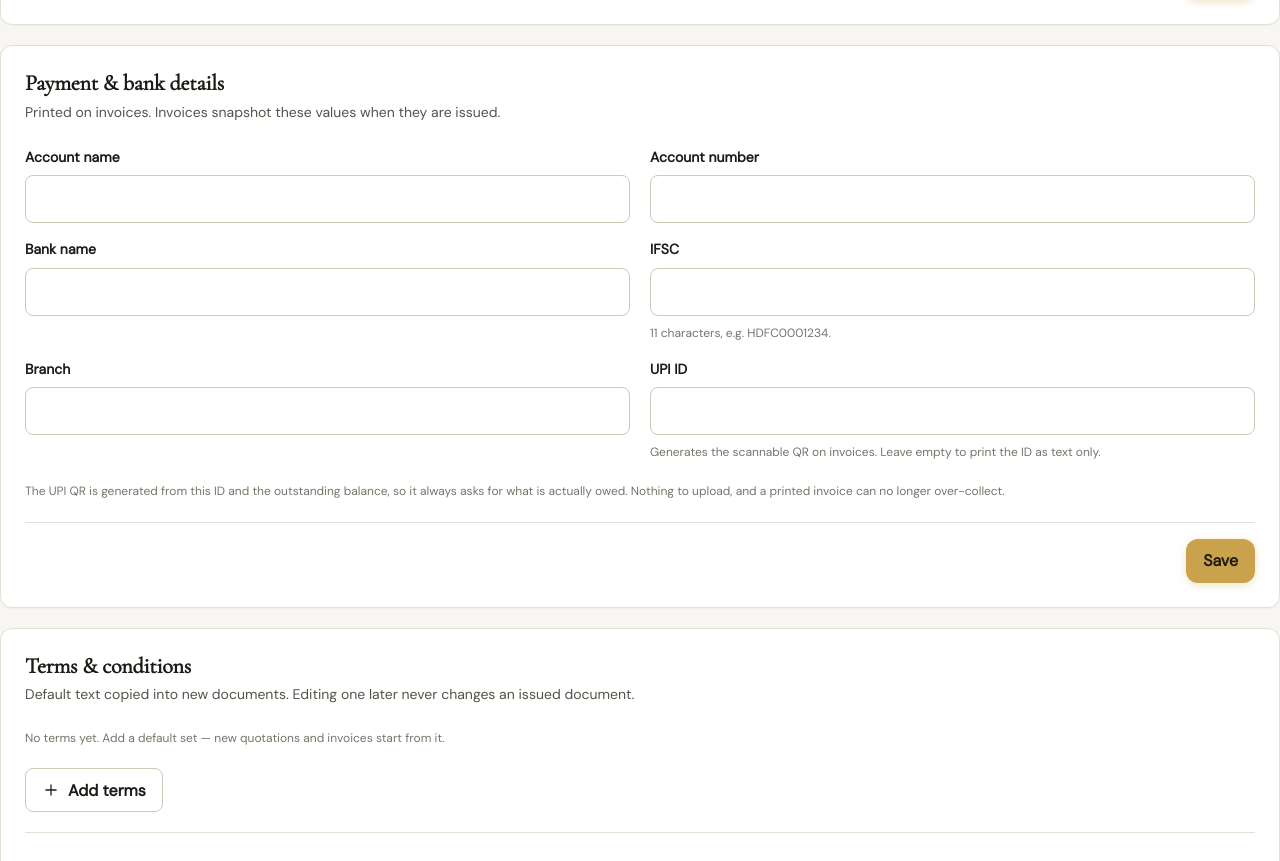
it: settings — UPI ID › rejects a VPA with no @ before any request is made
(page scrolled)
Type "not-a-vpa" into the field labelled "UPI ID" at (952,411), box 650,387 -> 1255,435
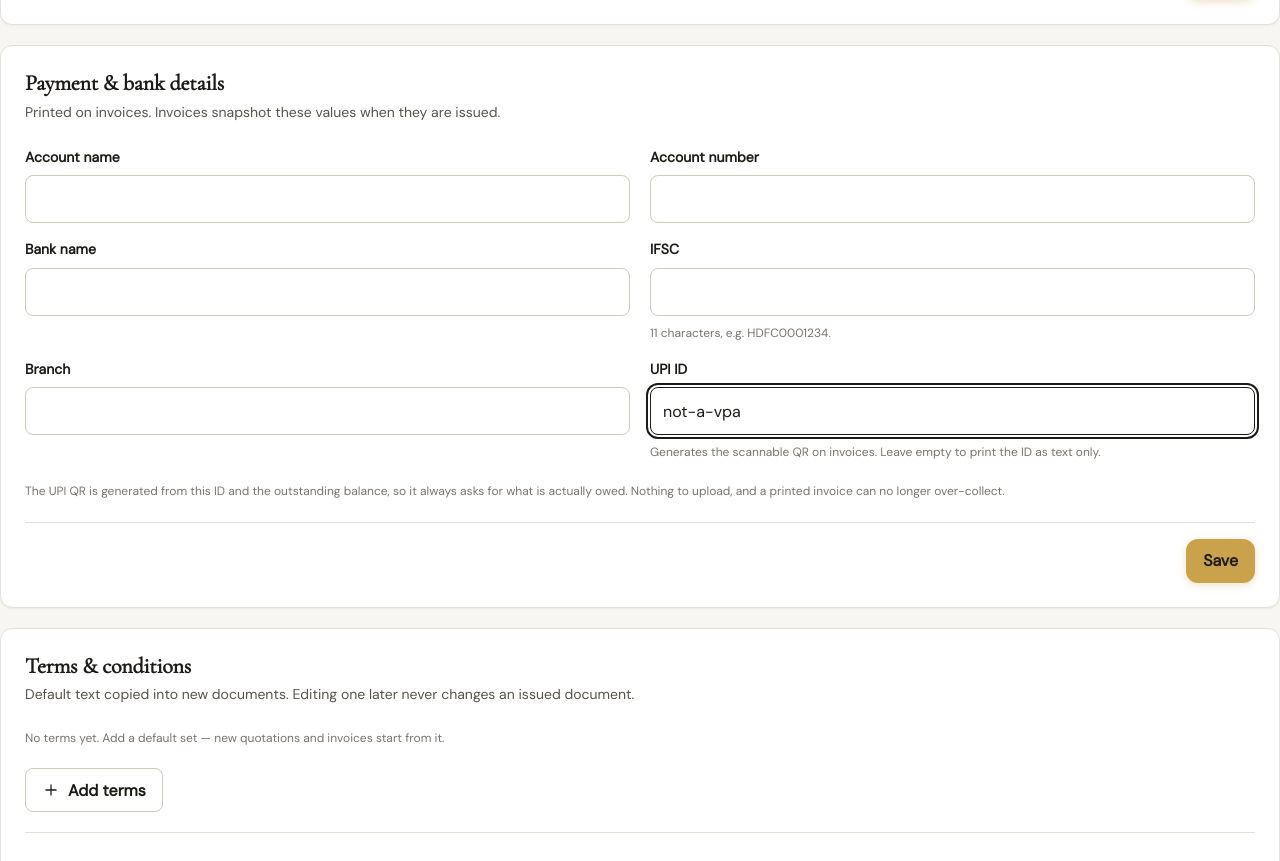
Click the 2nd button "Save" at (1221,560), box 1186,538 -> 1255,582
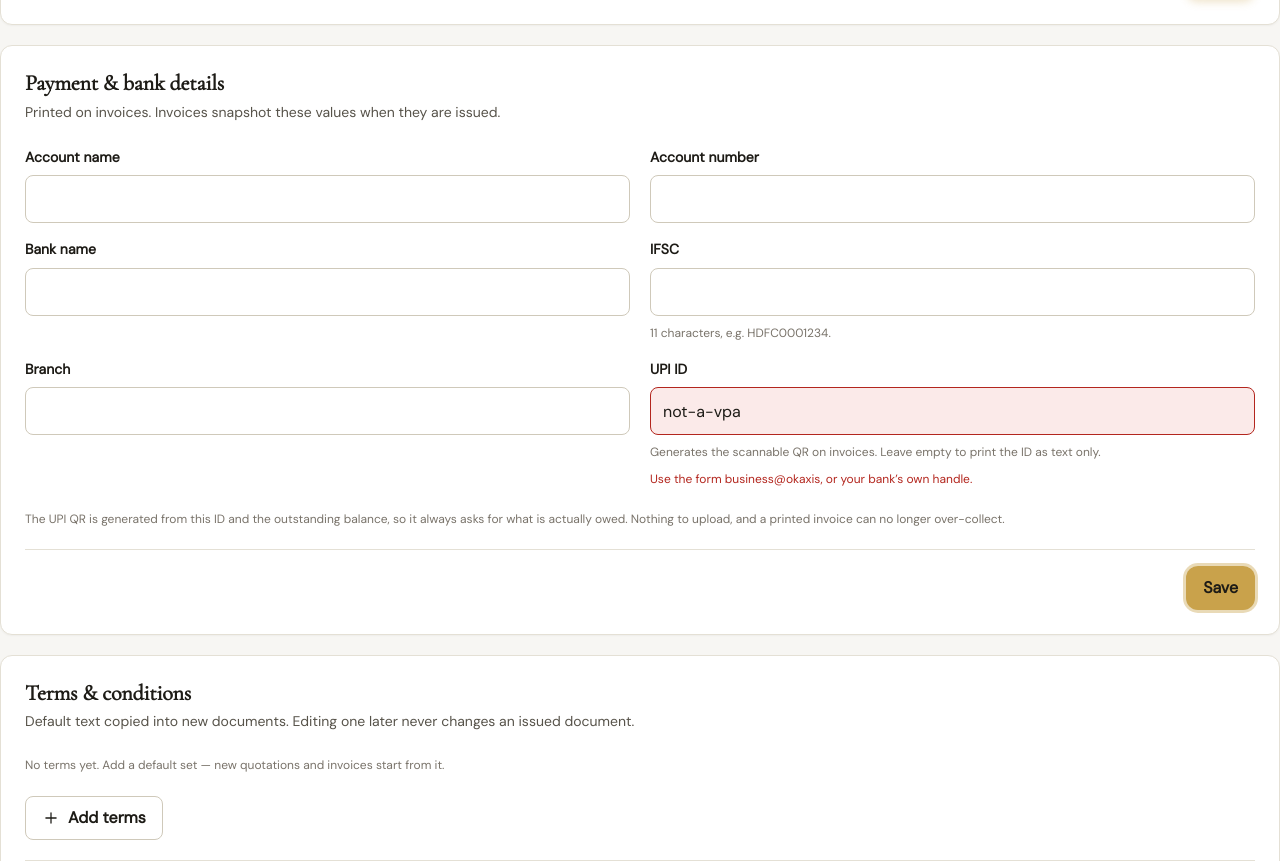
Result: the text "Use the form business@okaxis, or your bank’s own handle." is shown at 650,471 -> 972,487
